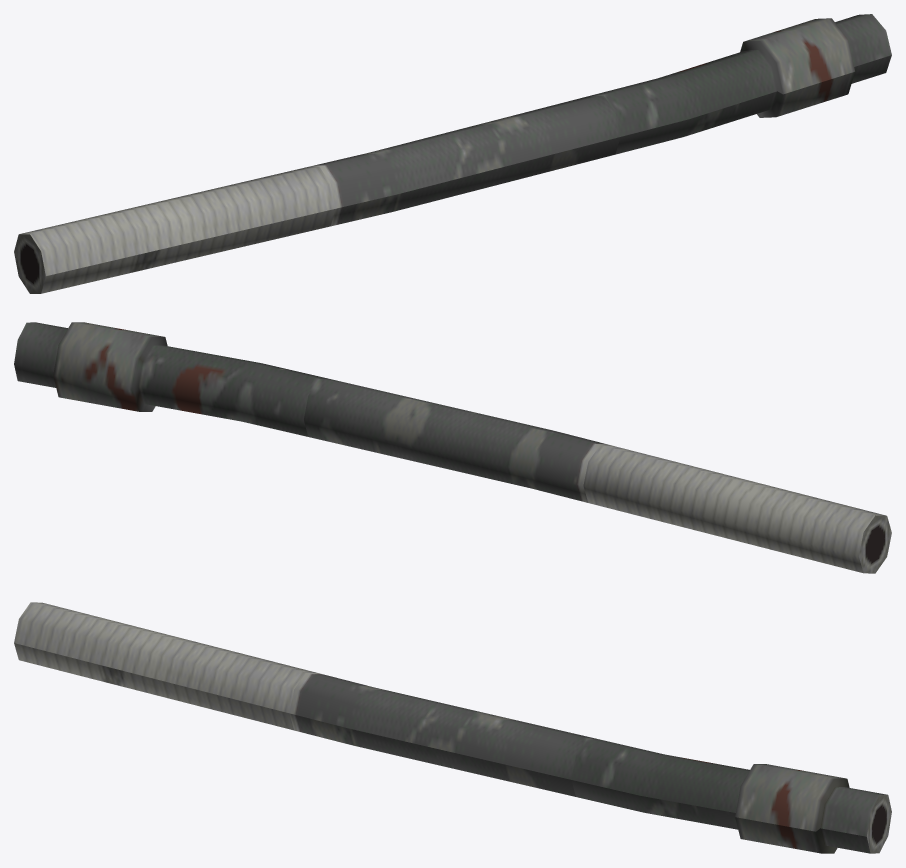
The model's file is lead_pipe.obj.
The picture shows the model from 3 angles, top to bottom: view 1: azimuth 30°, elevation 25°; view 2: azimuth 150°, elevation 25°; view 3: azimuth 330°, elevation 25°; orthographic projection. The views are drawn at different scales.
Visible parts, largest first — view 1: lead_pipe; view 2: lead_pipe; view 3: lead_pipe.
Boxes of the visible parts, box(x1,y1,x2,y2) form: lead_pipe: box(14, 14, 891, 293); lead_pipe: box(14, 322, 891, 573); lead_pipe: box(14, 602, 891, 853).
Bounding box in the file's own units: 0.4973 × 0.0424 × 0.0537.
1 material, 1 textured.
